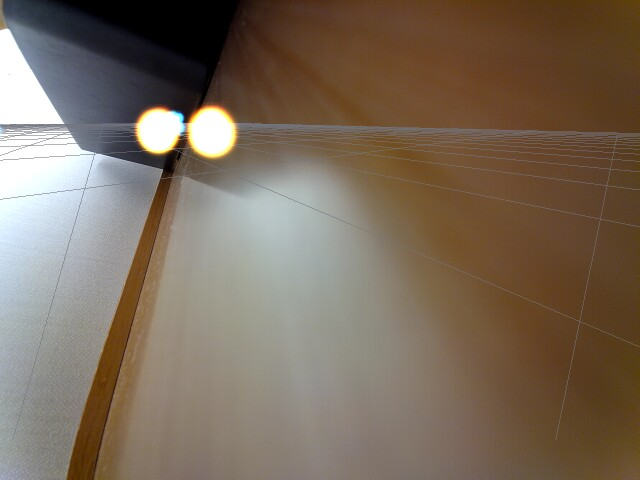firebig: (186, 103, 242, 169)
